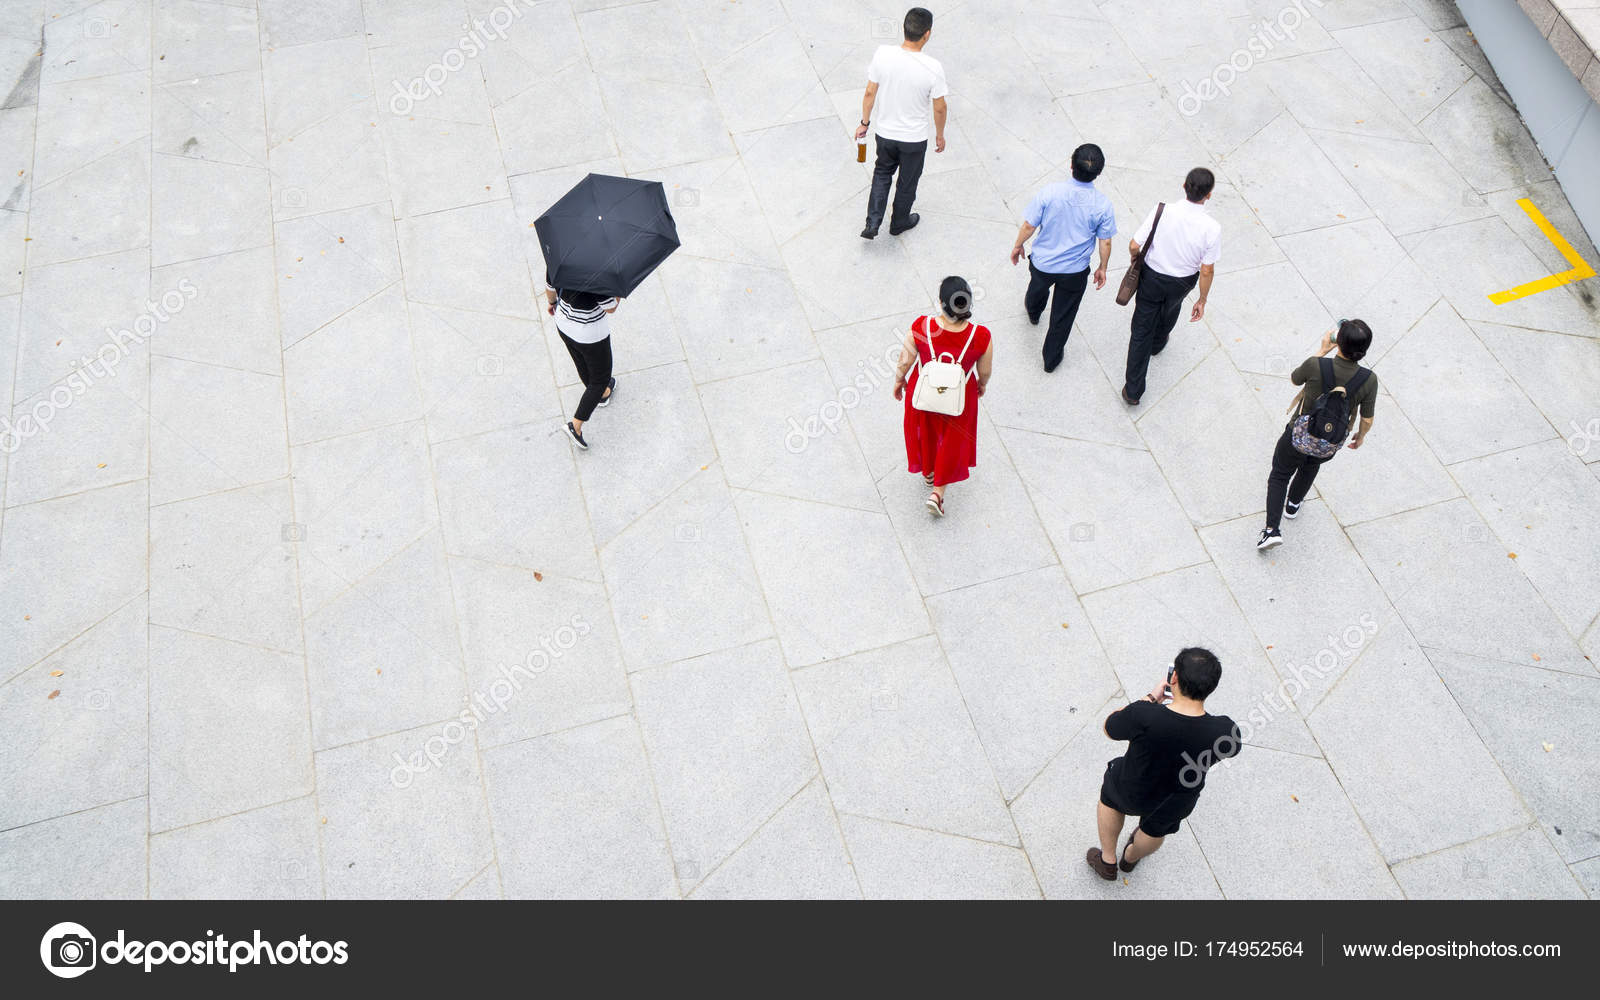person: (1095, 630, 1225, 882), (1263, 299, 1380, 549), (523, 172, 623, 444), (899, 272, 1004, 526), (852, 4, 957, 246), (1011, 144, 1112, 362), (1135, 149, 1215, 392)
